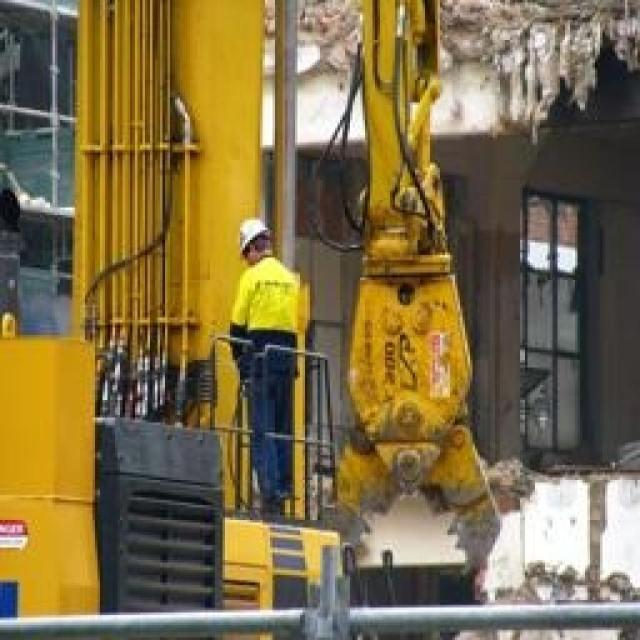Helmet: (211, 265, 325, 390), (225, 207, 280, 261)
